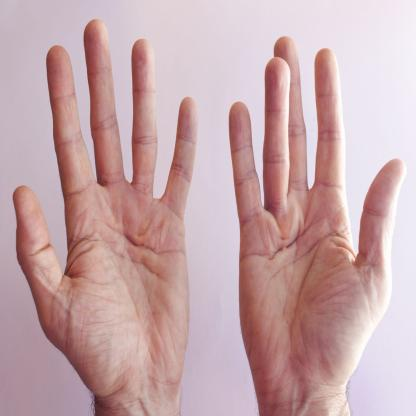palm: (7, 16, 211, 416), (214, 19, 416, 416)
